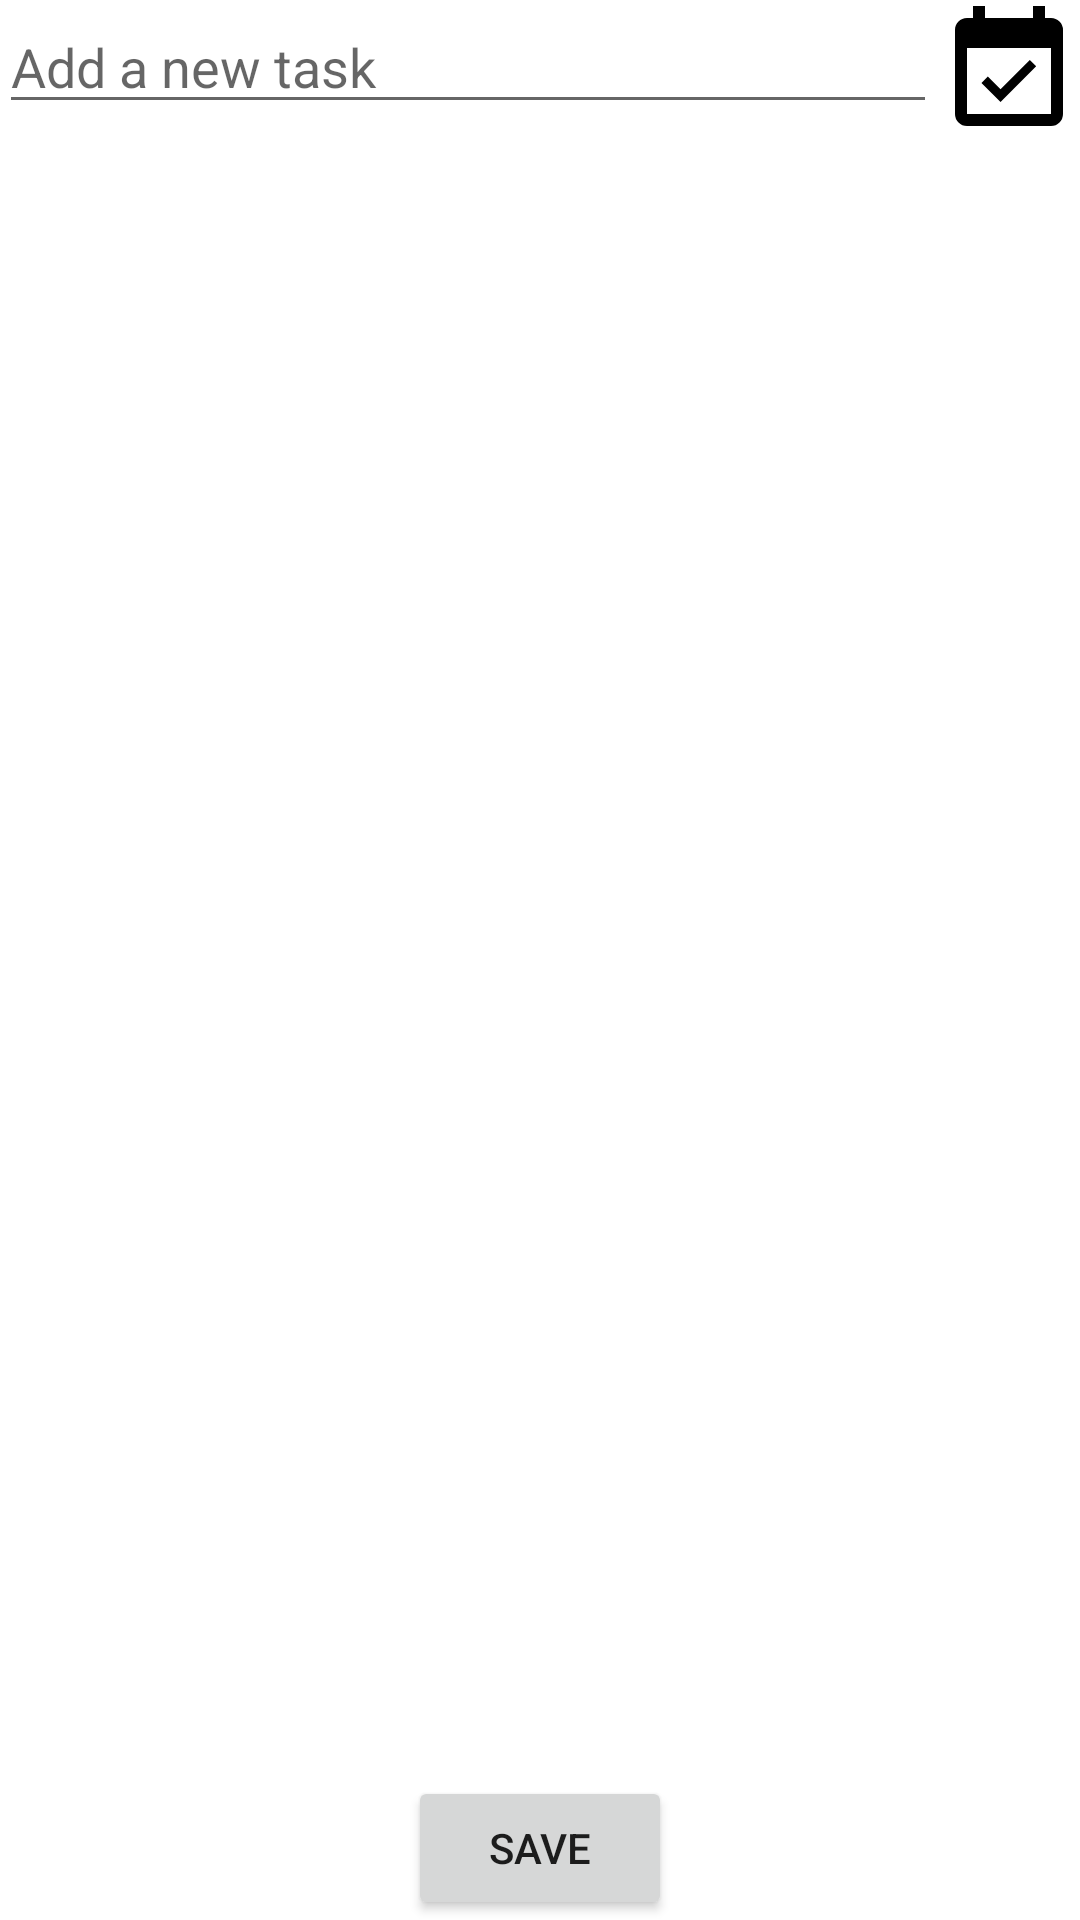

Icons on this 1080×1920 Android screen, each with the point to tap as (x,y):
calendar check: (1009,66)
